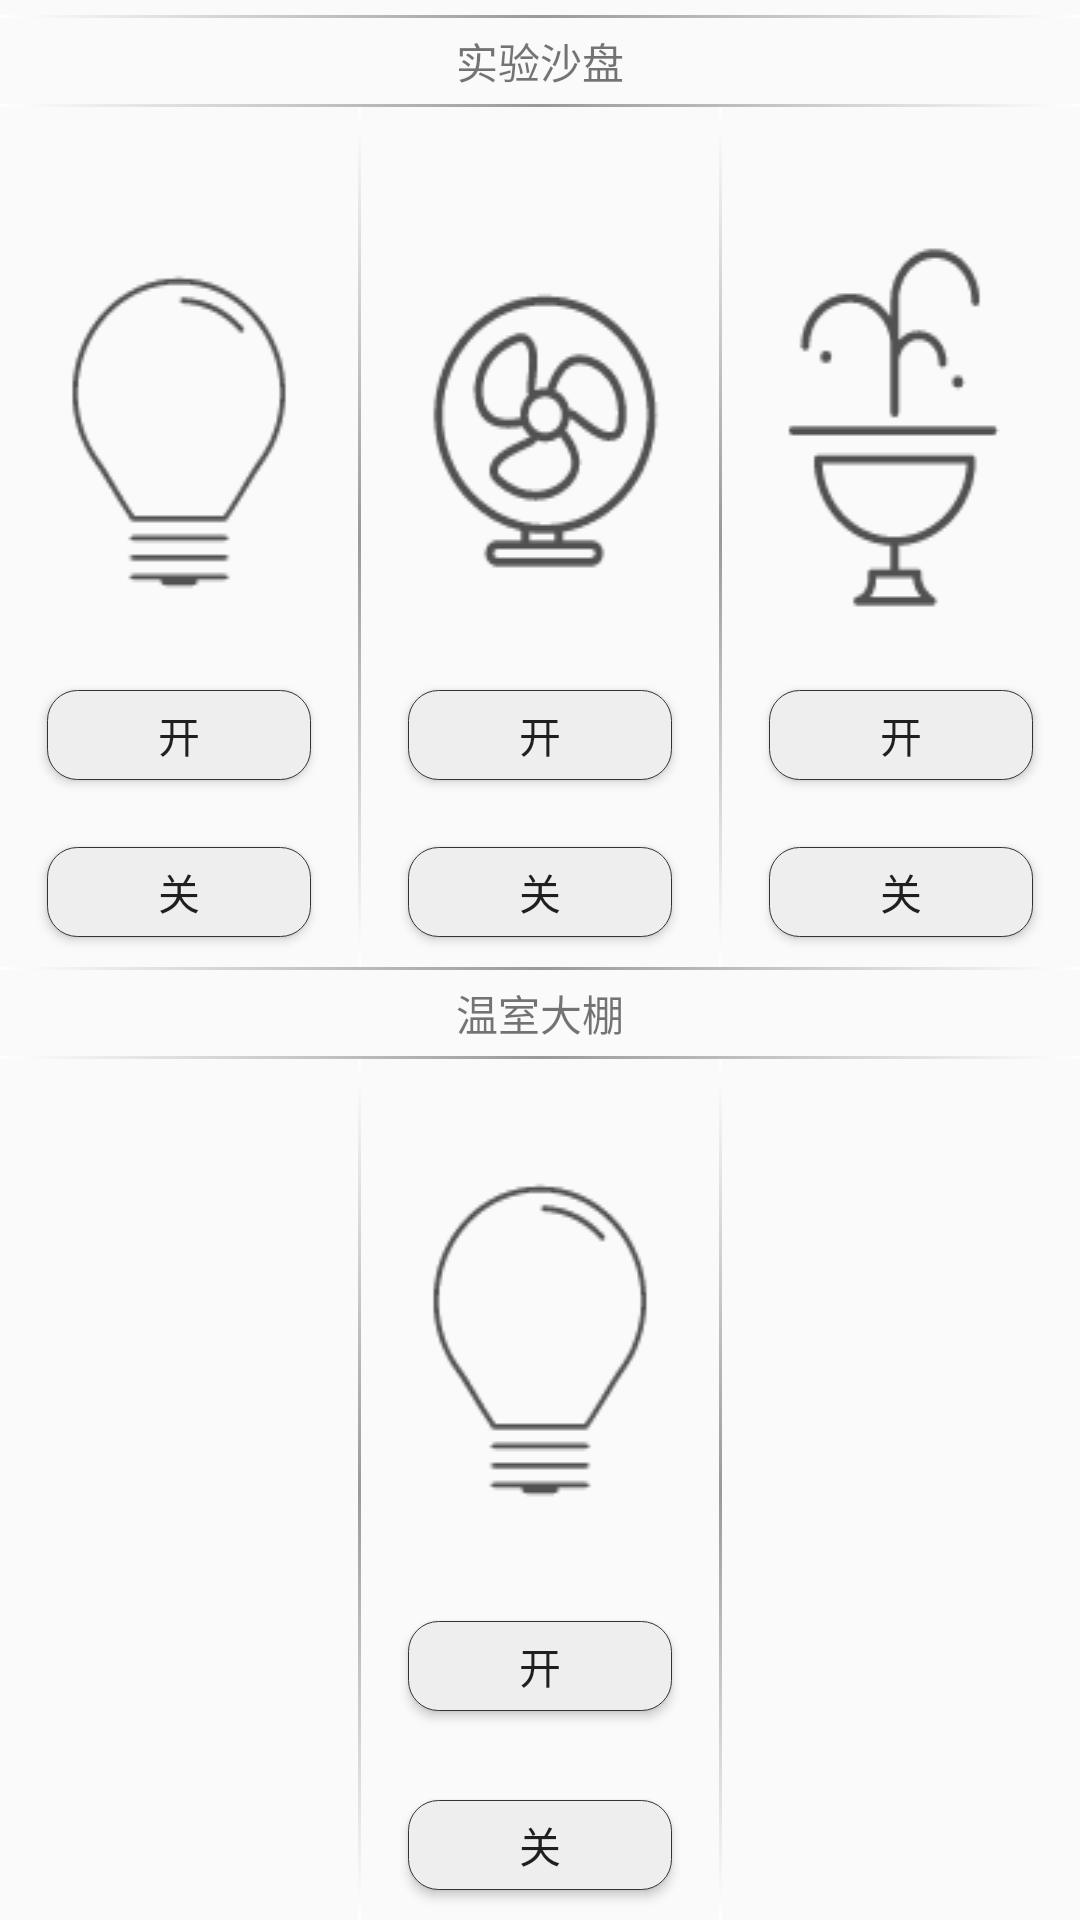

Screen size 1080 × 1920. Icon name, then its box in pixels as [x1, y1, x2, y2]:
fan: [433, 294, 658, 568]
fountain: [788, 248, 999, 607]
